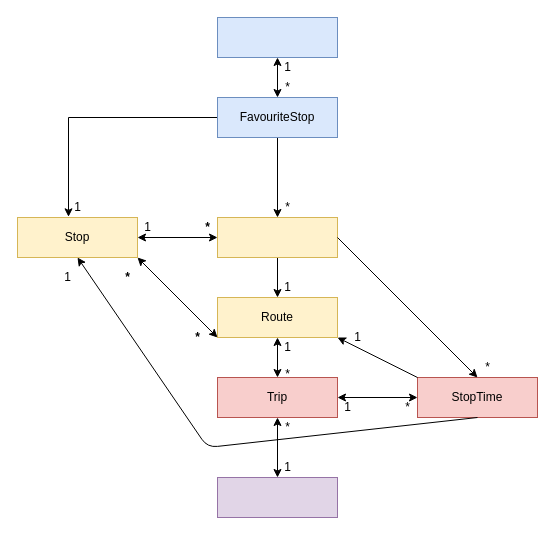
Some shapes in this 555 by 535 pixel diagram are drawn without their labels. The shapes that lost their labels are listed below. From the top down, each one's box as (x1, y1, x2, y2) in pixels, then its label:
(216, 16, 338, 58): User
(216, 216, 338, 258): StopRoute
(216, 476, 338, 518): Service
